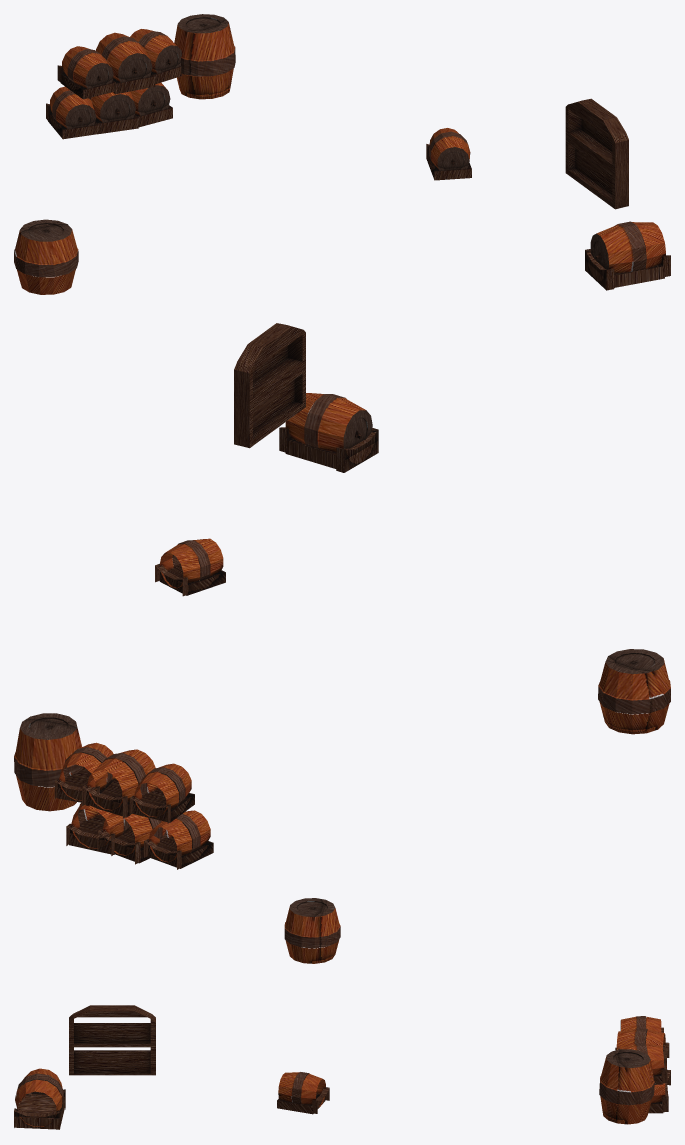
3 renders of one model, top to bottom at view 1: azimuth 30°, elevation 25°; view 2: azimuth 150°, elevation 25°; view 3: azimuth 270°, elevation 25°, orthographic. The views are drawn at different scales.
Parts seen in each view (by area): view 1: transform10; view 2: transform10; view 3: transform10.
Boxes of the visible parts, x1,y1,x2,y2 form: transform10: (14, 14, 670, 294); transform10: (14, 323, 670, 869); transform10: (14, 898, 670, 1129).
Size of the model in its own units: 16.33 by 6.04 by 21.81.
